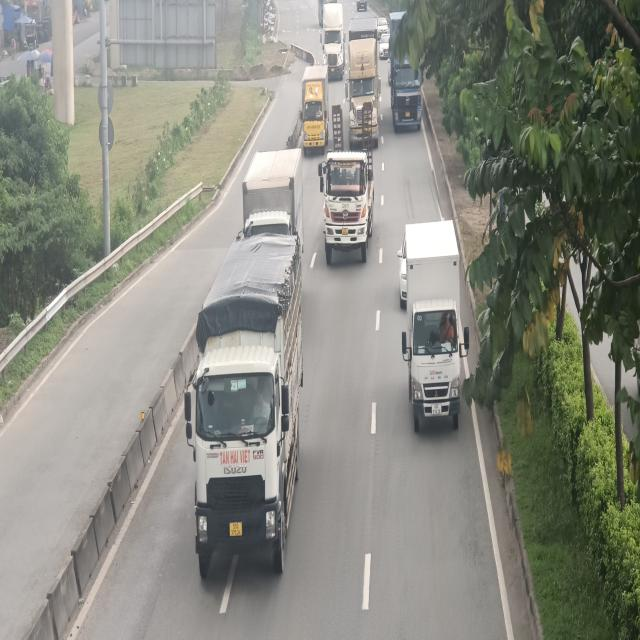container: (346, 18, 380, 145), (319, 0, 346, 76)
truck: (188, 233, 308, 579), (400, 217, 470, 432), (317, 139, 373, 258), (299, 63, 327, 155)
